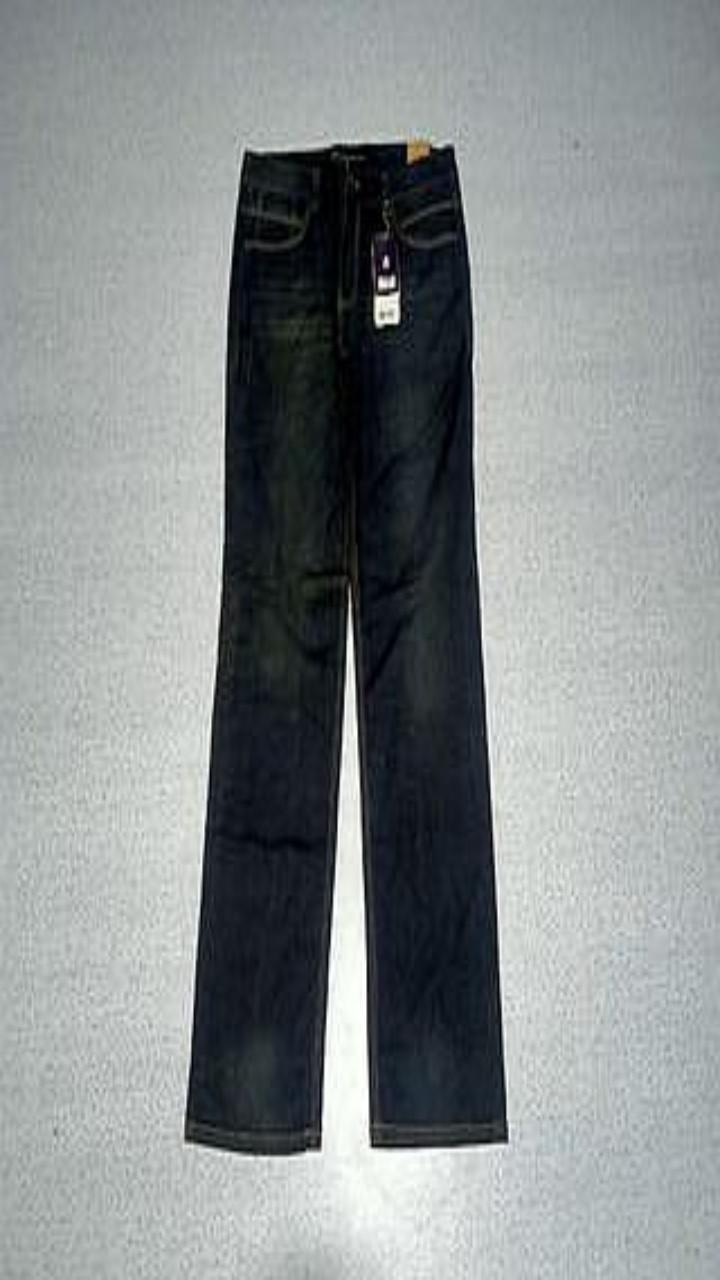Jeans: (185, 141, 507, 1152)
